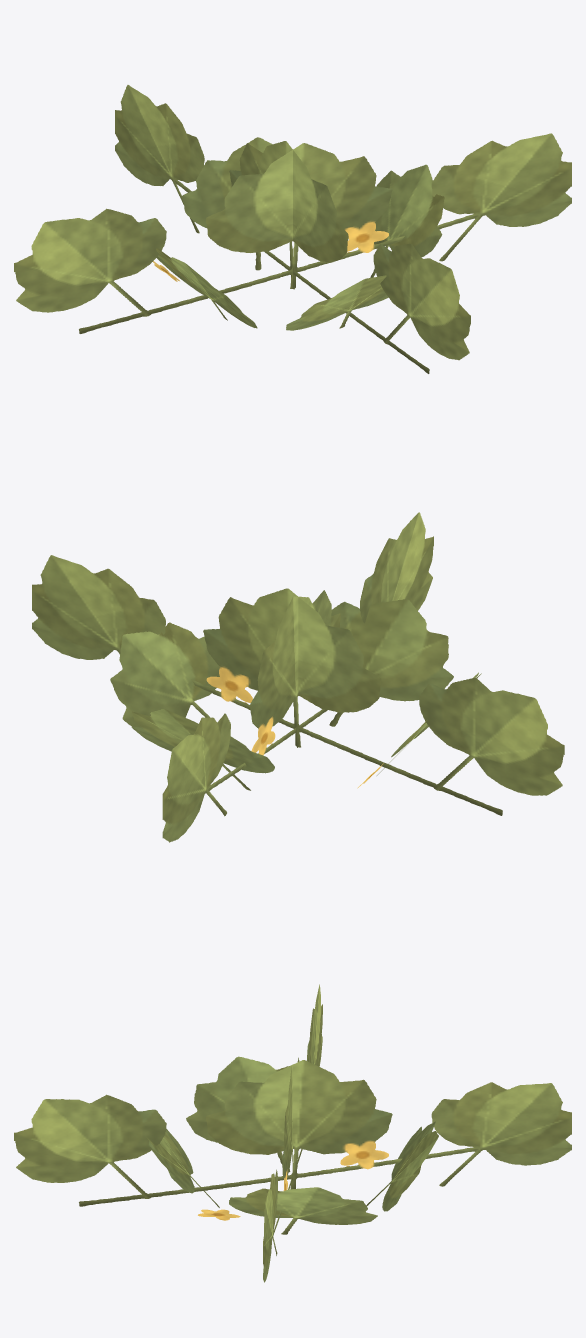
File: crop_pumpkin_2.glb
3 renders of one model, top to bottom at view 1: azimuth 30°, elevation 25°; view 2: azimuth 150°, elevation 25°; view 3: azimuth 270°, elevation 25°, orthographic. The views are drawn at different scales.
Visible parts, largest first — view 1: crop_pumpkin_2; view 2: crop_pumpkin_2; view 3: crop_pumpkin_2.
Part boxes in pixels (box(x1,y1,x2,y2)): crop_pumpkin_2: box(14, 85, 571, 373); crop_pumpkin_2: box(32, 512, 564, 842); crop_pumpkin_2: box(14, 984, 571, 1282).
Bounding box in the file's own units: 0.7755 × 0.26 × 0.7761.
1 material, 1 textured.
